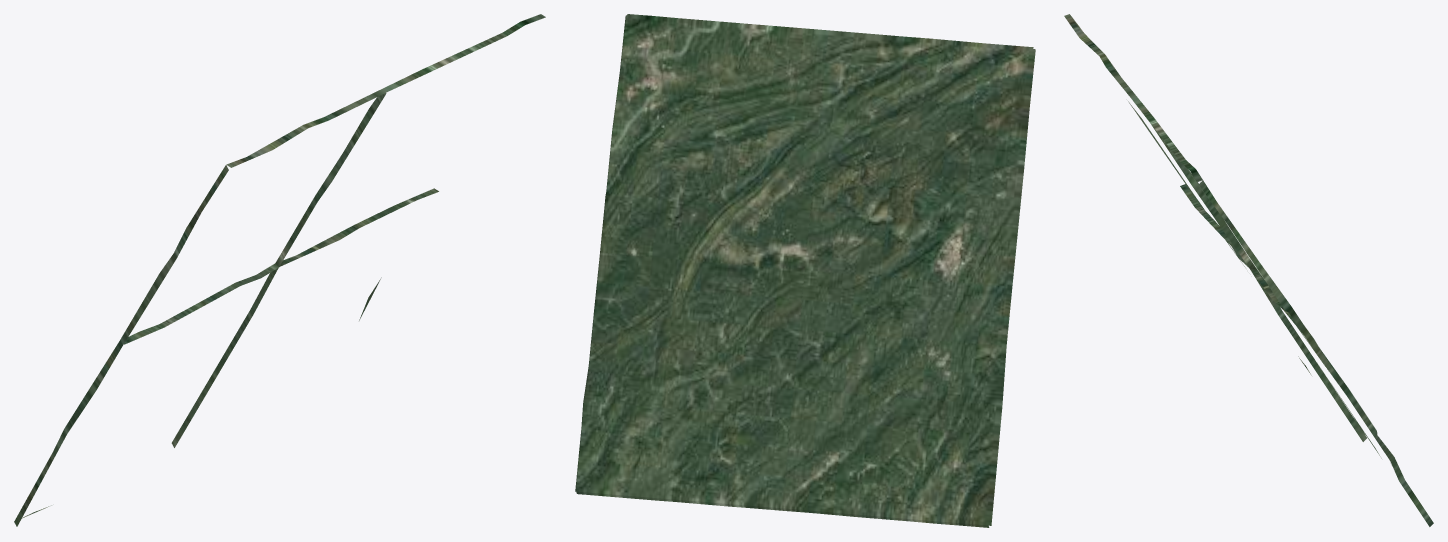
3 renders of one model, left to right at view 1: azimuth 30°, elevation 25°; view 2: azimuth 150°, elevation 25°; view 3: azimuth 270°, elevation 25°, orthographic. The views are drawn at different scales.
Bounding box in the file's own units: 155375 × 137520 × 120818.
1 material, 1 textured.
